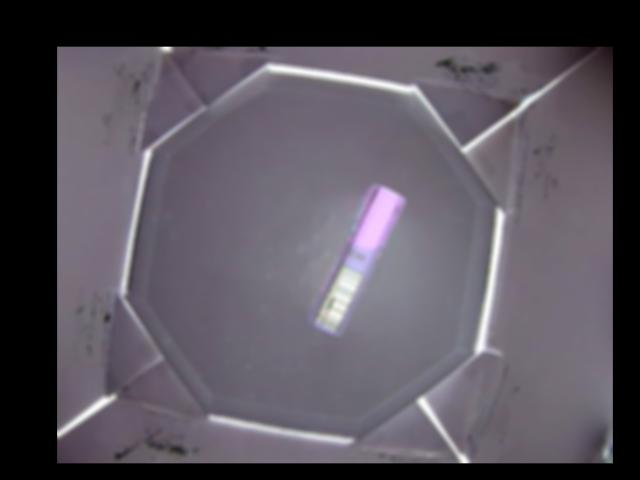Bottle: (308, 184, 408, 337)
